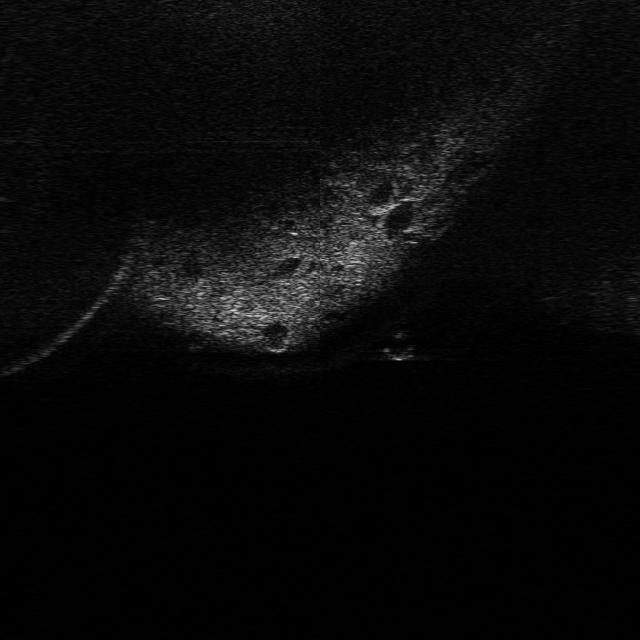ball: (373, 329, 422, 360)
